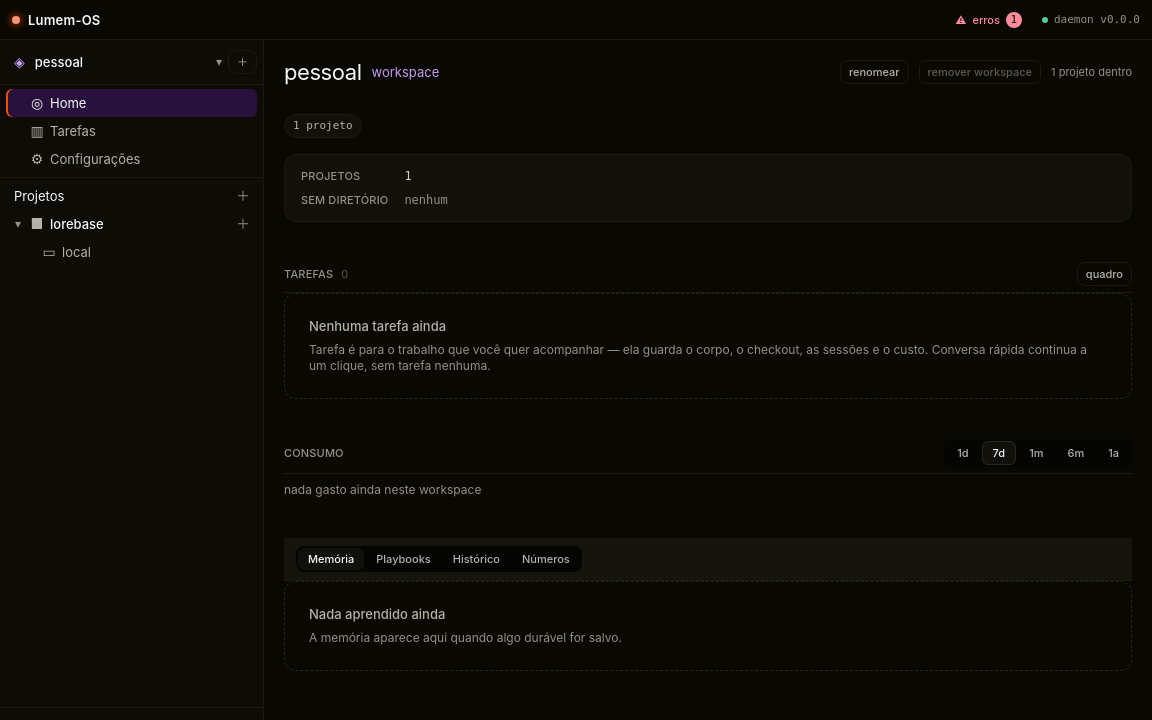
Test case: project detail › shows the repository the daemon recorded
Click the button "■ lorebase".
click(128, 224)  # box [26,210,231,238]
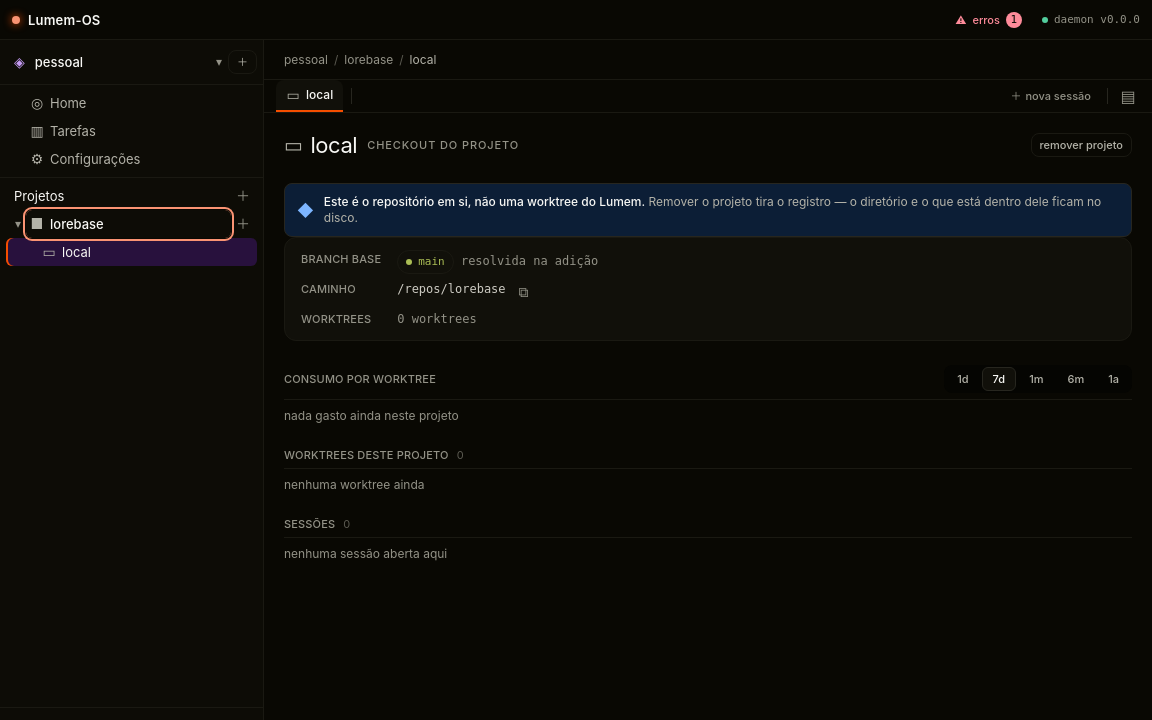
Expected: the heading "▭ local" is shown, [284,131,357,159]
Expected: the text "/repos/lorebase" is shown, [397,280,506,298]
Expected: the text "main" is shown, [397,250,454,274]
